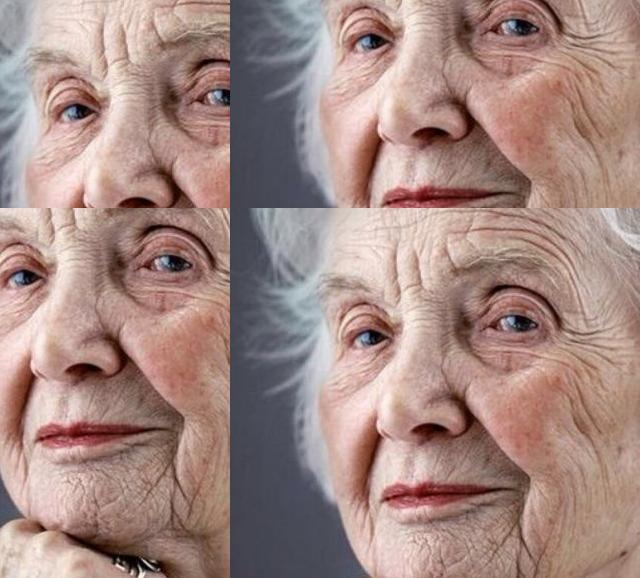bunny_line: (432, 326, 453, 388)
chin: (508, 510, 545, 578), (428, 546, 453, 578), (480, 534, 502, 568)
crows_feet: (552, 316, 610, 358), (110, 162, 152, 205)
forehead: (457, 208, 568, 246), (127, 36, 203, 70), (368, 209, 438, 235)
frown_line: (386, 248, 432, 306)
gummy_smile: (462, 400, 512, 462), (486, 62, 518, 118), (356, 430, 384, 492)
masseter: (560, 384, 606, 462)
